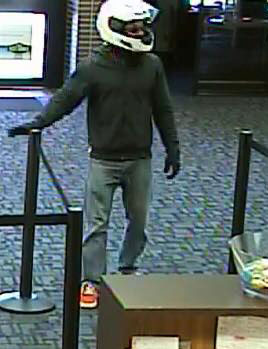helmet: (83, 1, 164, 56)
